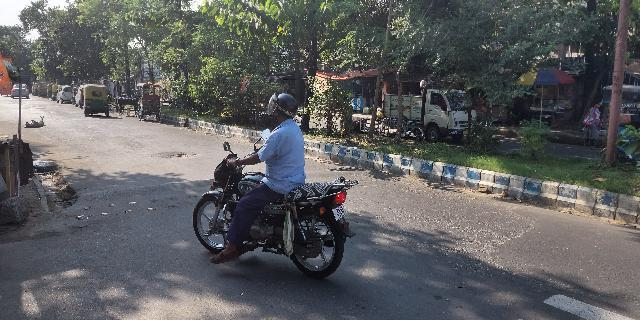Autorickshaw: (80, 80, 112, 117)
Motorbike: (183, 90, 358, 283)
Rickshaw: (133, 79, 162, 122)
